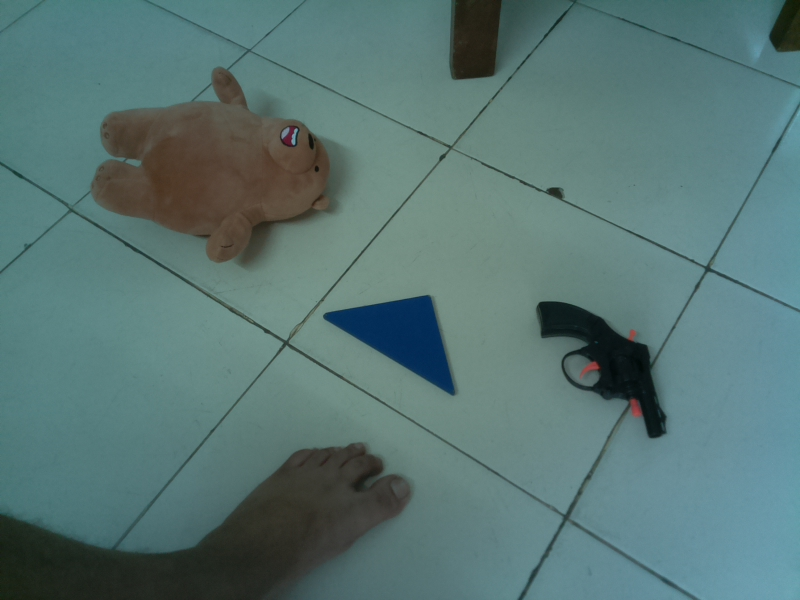Gun: (532, 295, 672, 443)
Triangle: (321, 290, 462, 401)
